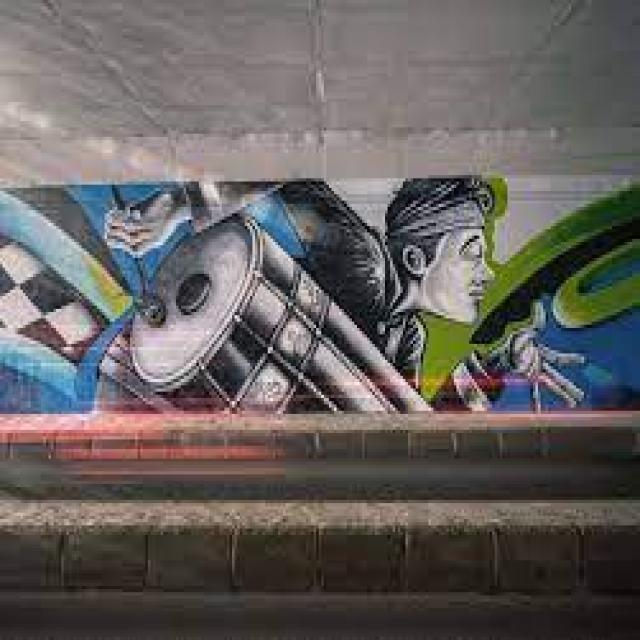-: (0, 181, 640, 414)
